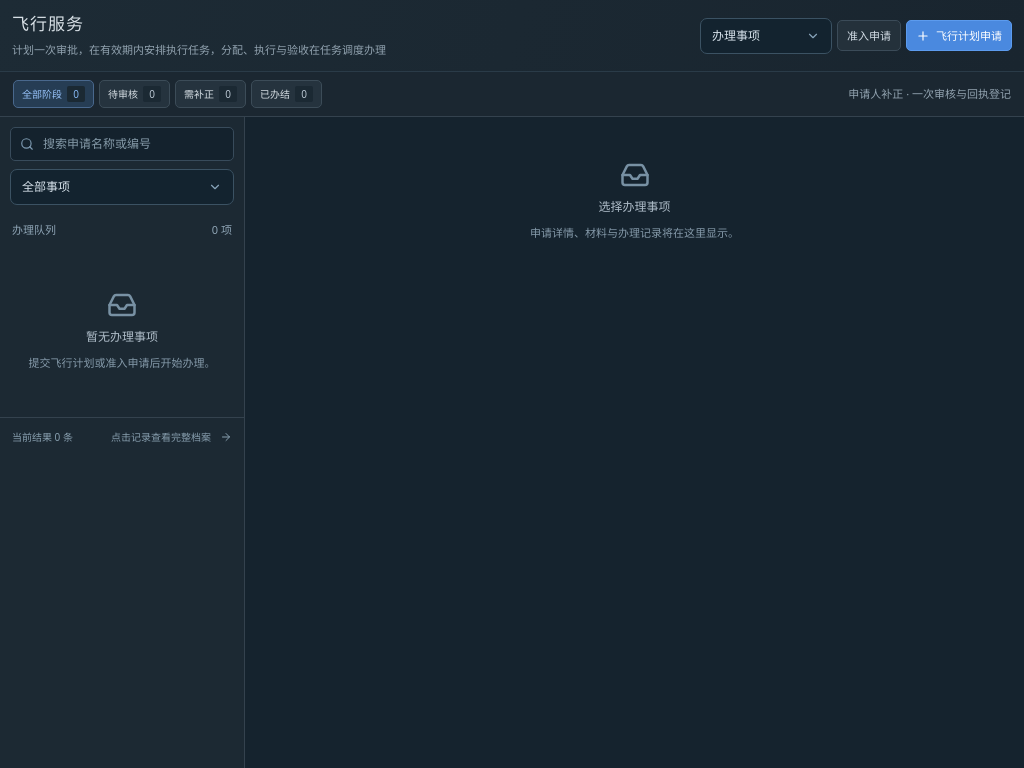
Scenario: 飞行申请直达与精简表单 › 准入申请继续展示材料字段，类型与普通飞行申请分开
Step 1. Click the button "准入申请" → (869, 36), box [837,20,901,51]
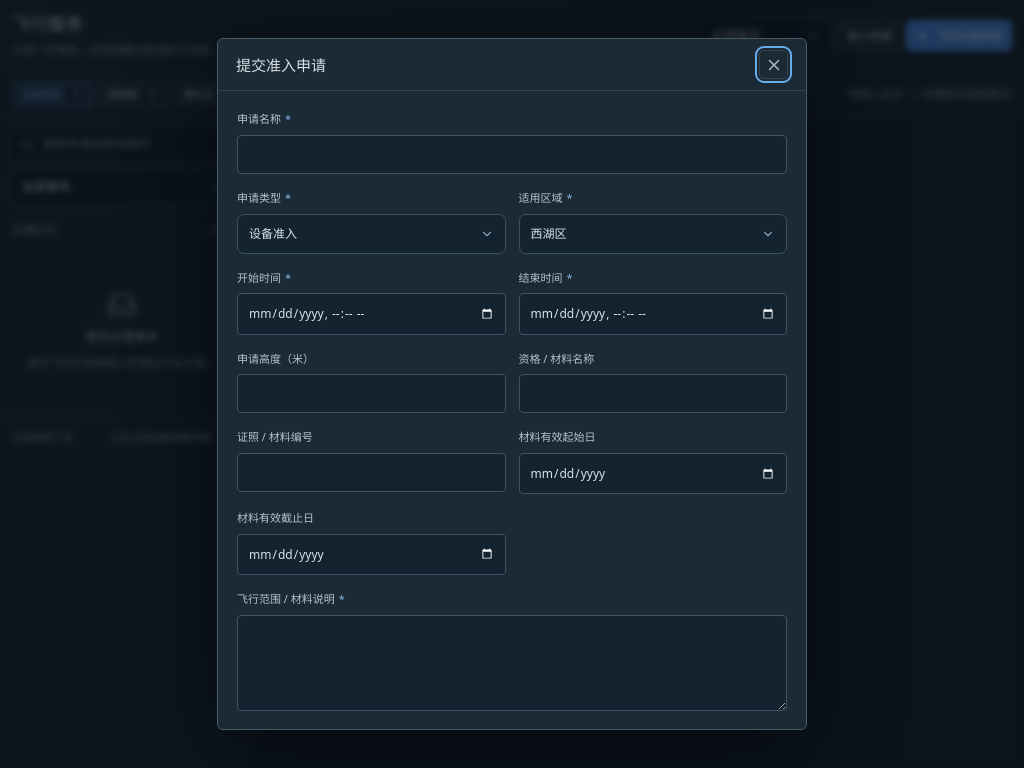
Expected: the field labelled "资格 / 材料名称" is shown, [518,374,787,413]
Expected: the field labelled "证照 / 材料编号" is shown, [237,453,506,492]
Step 2. Click the dropdown named "申请类型" → (273, 233), box [237,214,506,254]
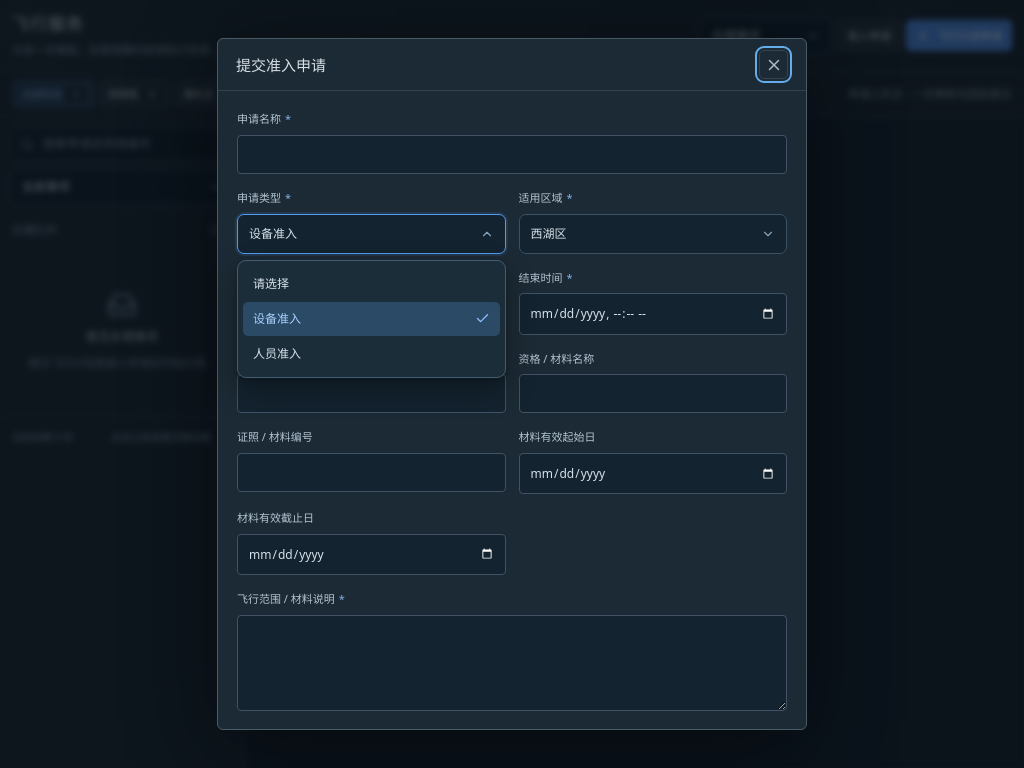
Expected: the option "人员准入" is shown, [253,345,301,362]
